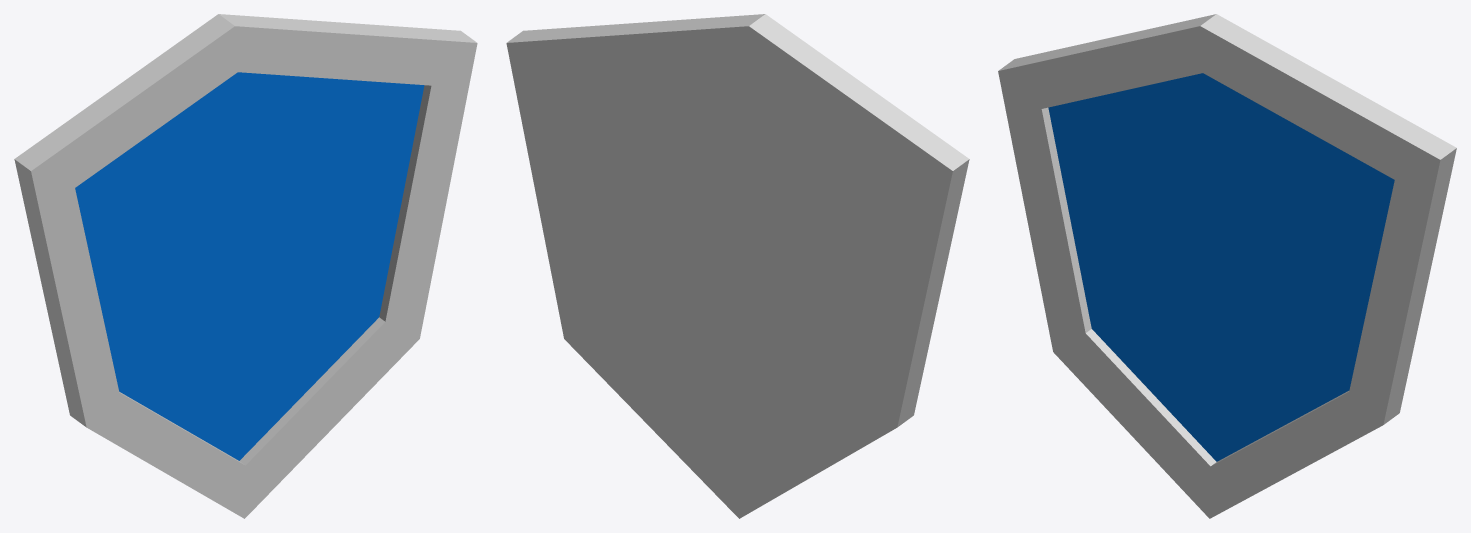
File: Armor.fbx
3 views of the same model, side by side, from view 1: azimuth 30°, elevation 25°; view 2: azimuth 150°, elevation 25°; view 3: azimuth 330°, elevation 25° (orthographic).
Parts seen in each view (by area): view 1: Cube.001; view 2: Cube.001; view 3: Cube.001.
Boxes of the visible parts, x1,y1,x2,y2 form: Cube.001: (14, 14, 477, 518); Cube.001: (506, 14, 969, 518); Cube.001: (998, 14, 1456, 518).
Bounding box in the file's own units: 286 × 303 × 18.42.
